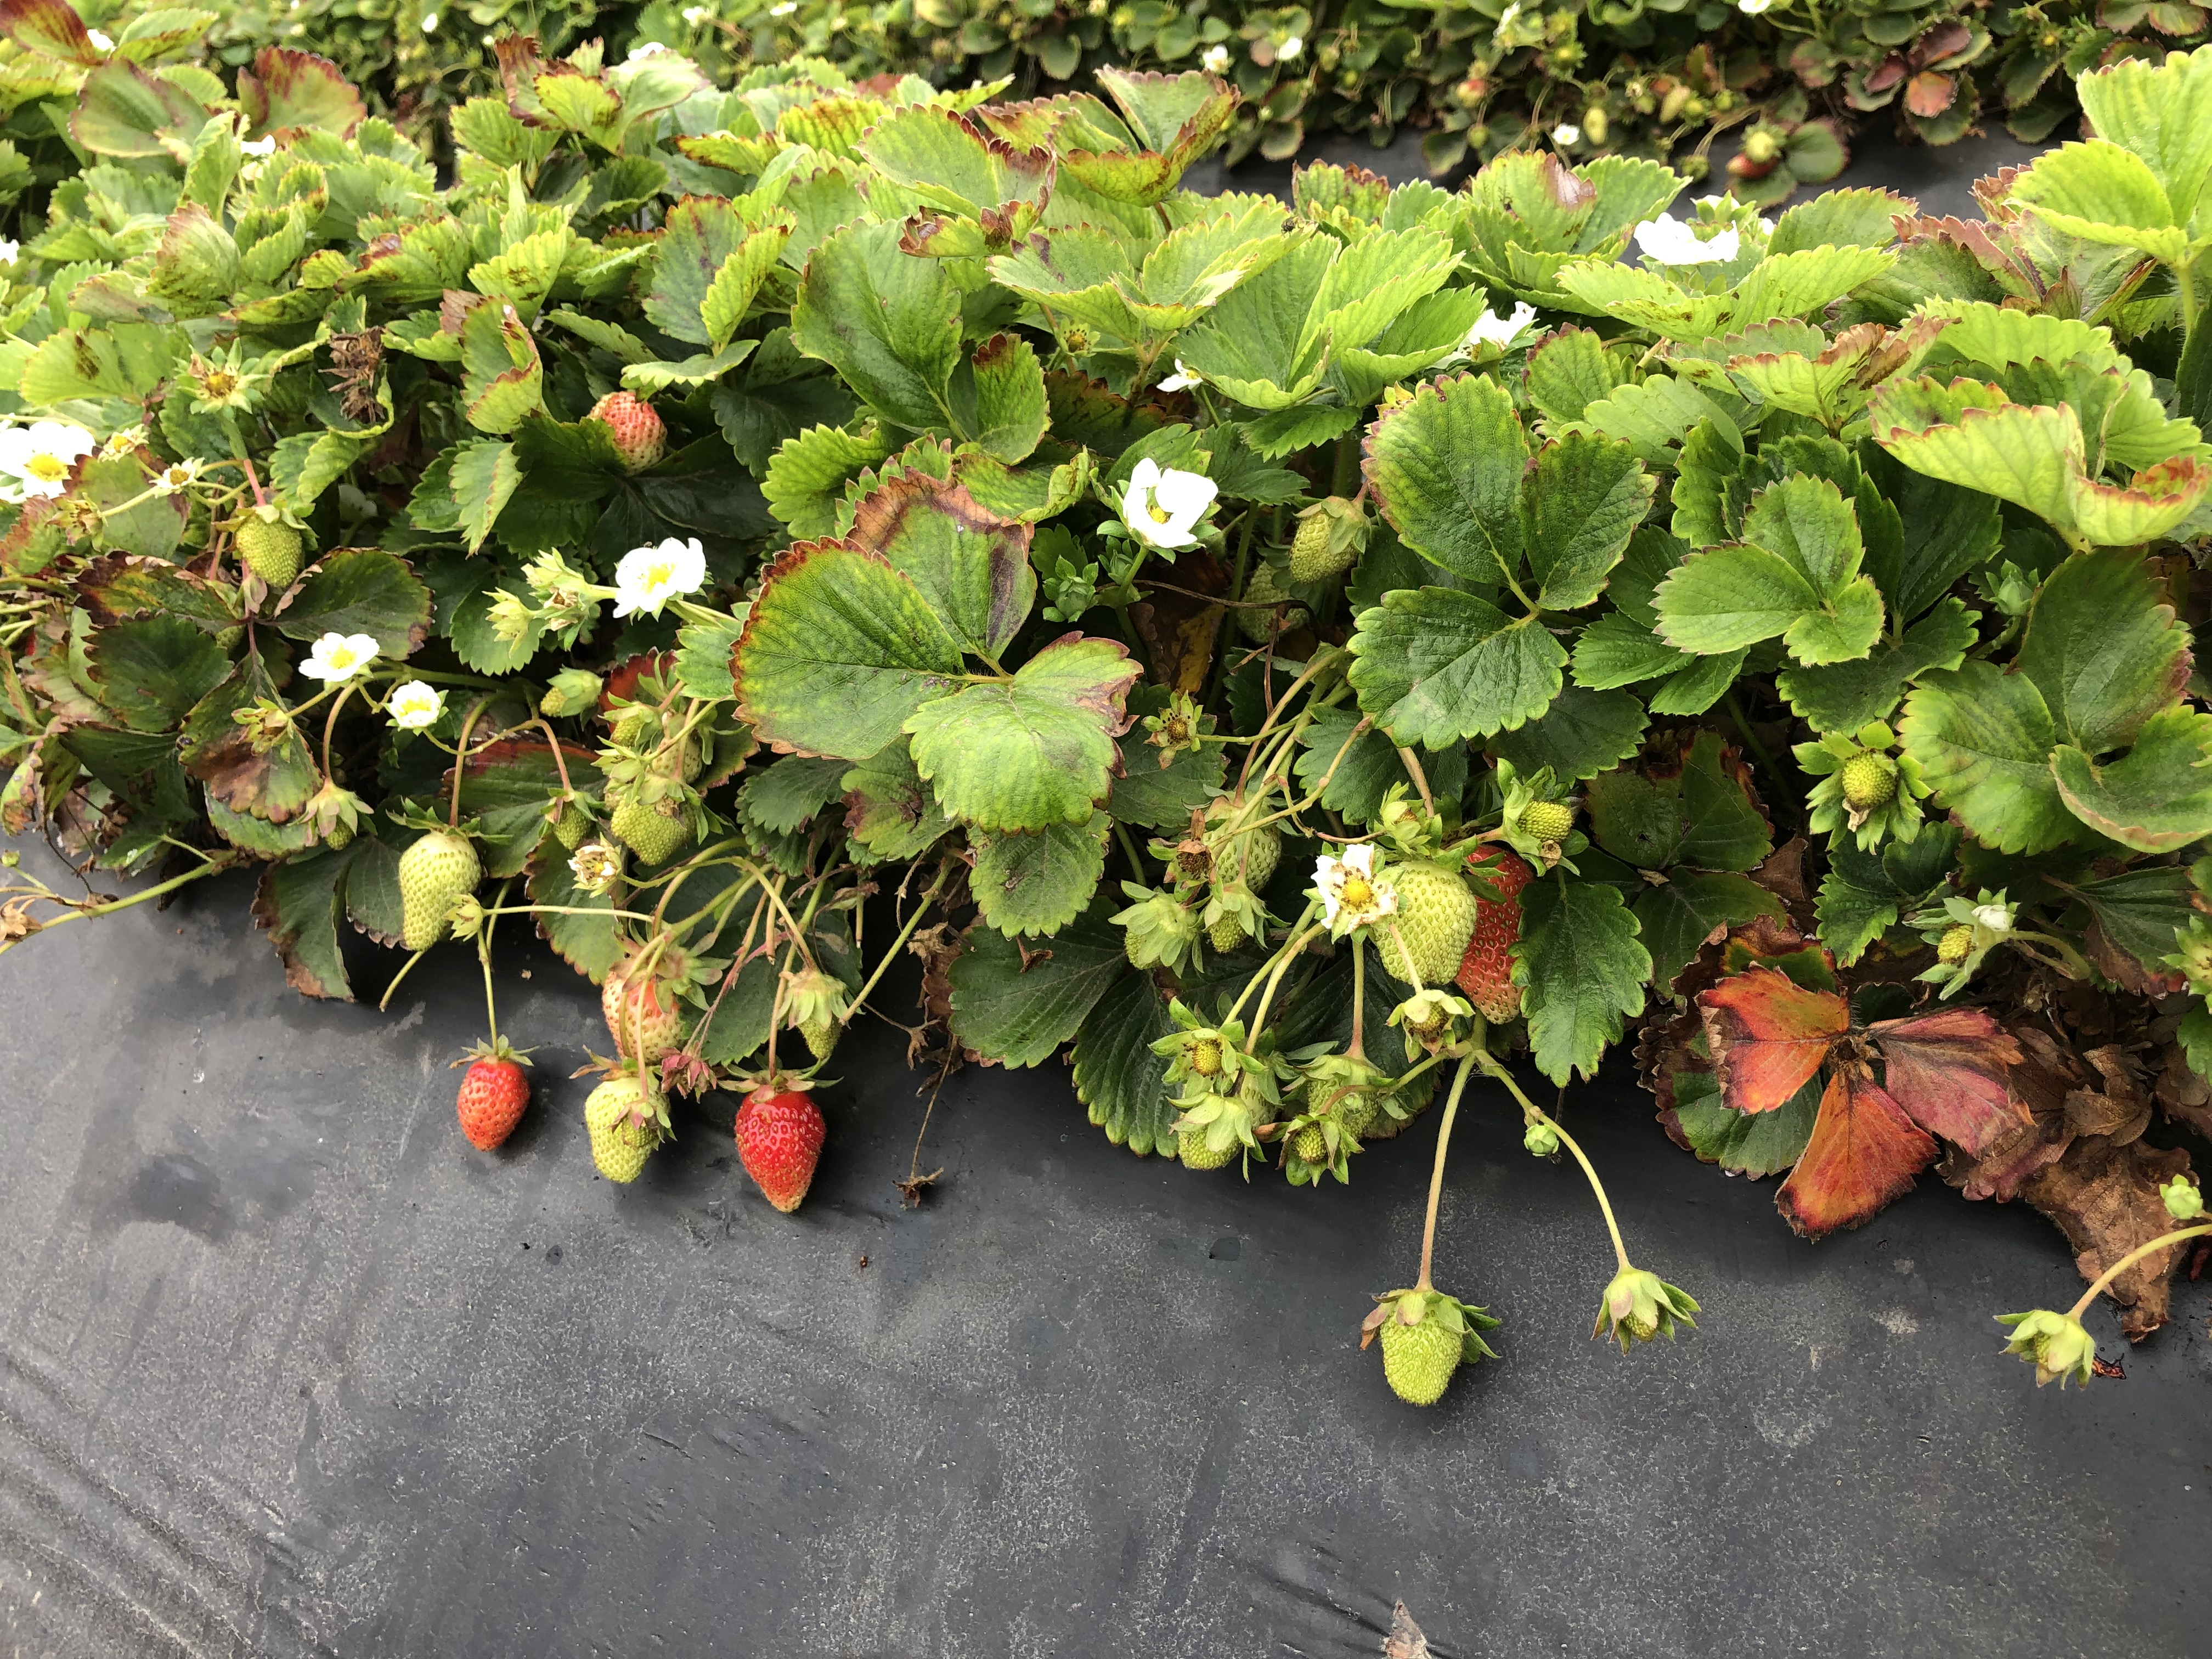ripe_strawberry: (1440, 836, 1536, 1028), (726, 1077, 834, 1216), (453, 1044, 535, 1154)
unripe_strawberry: (1367, 854, 1489, 990), (394, 824, 489, 955), (597, 941, 693, 1072), (1374, 1290, 1472, 1412), (583, 1066, 672, 1187), (610, 769, 707, 870), (1231, 549, 1327, 648), (1195, 788, 1284, 892), (578, 385, 674, 477), (1299, 1056, 1385, 1155), (1284, 493, 1369, 592), (1190, 1042, 1291, 1124), (1831, 732, 1909, 821), (233, 505, 308, 592), (784, 971, 848, 1063), (1122, 897, 1188, 971), (1608, 1270, 1670, 1345), (1176, 1094, 1235, 1171), (307, 786, 362, 859), (1209, 882, 1259, 960), (1284, 1112, 1338, 1183), (1508, 796, 1578, 843), (545, 793, 599, 852), (535, 673, 603, 720), (606, 702, 664, 751), (1935, 917, 1980, 974)
